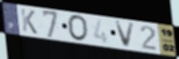2: (139, 25, 158, 52)
4: (92, 18, 110, 45)
7: (41, 9, 60, 39)
K: (20, 7, 39, 36)
O: (66, 14, 90, 43)
V: (114, 20, 137, 49)
